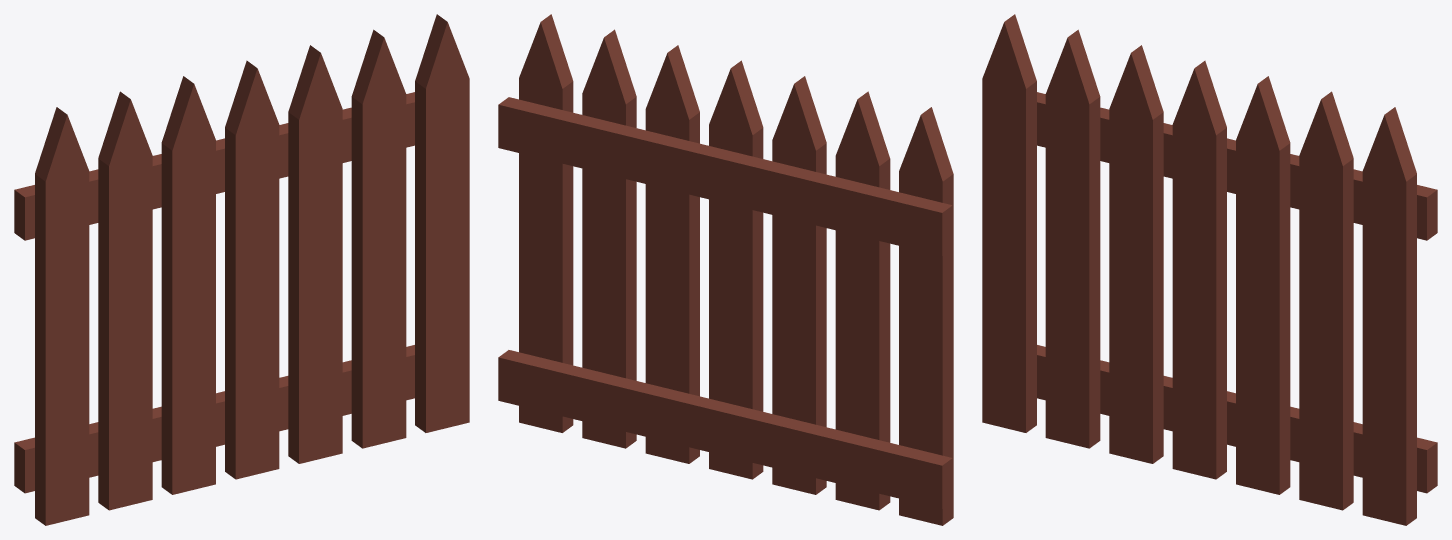
Rendered from WoodenFenceScaled.fbx.
3 renders of one model, left to right at view 1: azimuth 30°, elevation 25°; view 2: azimuth 150°, elevation 25°; view 3: azimuth 330°, elevation 25°, orthographic.
Visible parts, largest first — view 1: Cube.009; view 2: Cube.009; view 3: Cube.009.
Boxes of the visible parts, x1,y1,x2,y2 form: Cube.009: [14, 14, 469, 525]; Cube.009: [498, 14, 953, 525]; Cube.009: [982, 14, 1437, 525].
Size of the model in its own units: 182 by 159 by 15.12.
